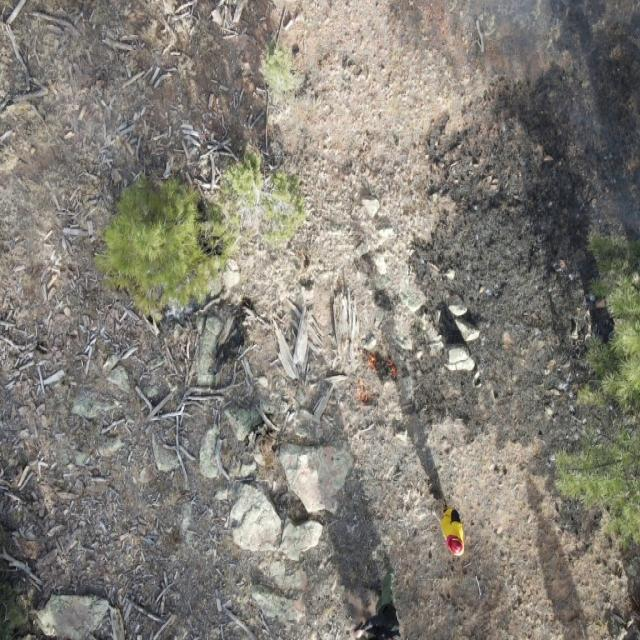fire: (358, 345, 400, 381), (352, 385, 373, 405)
smoke: (554, 40, 640, 232), (463, 0, 575, 60)
